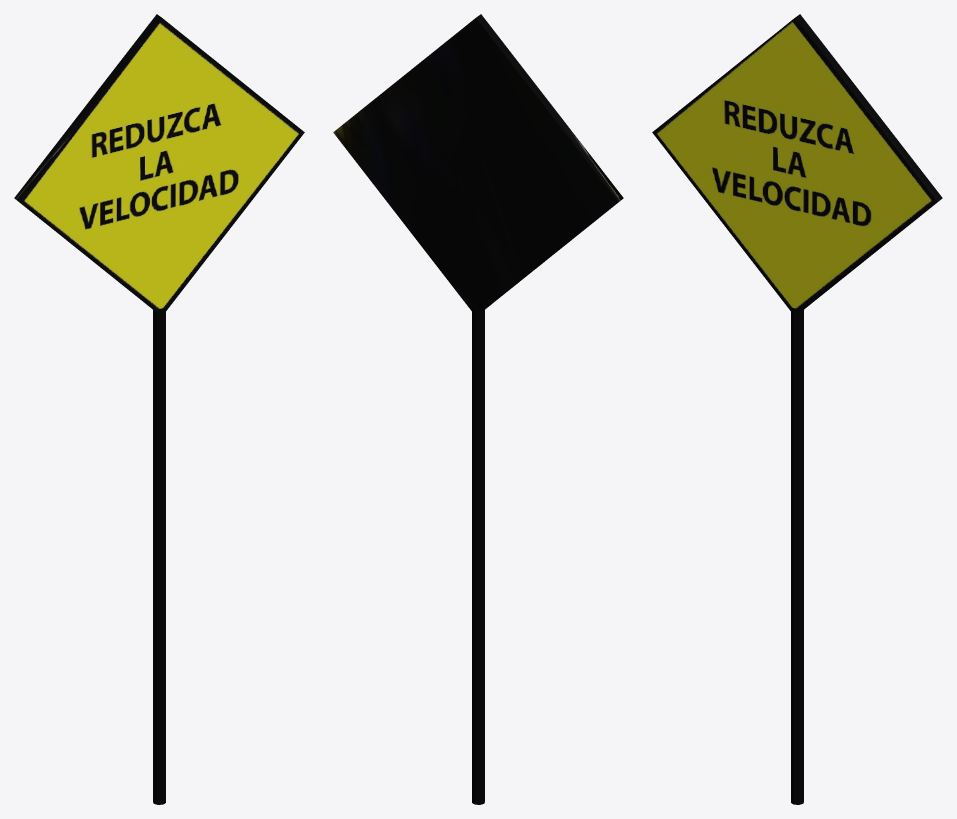
File: letrero de Velocidad.fbx
3 renders of one model, left to right at view 1: azimuth 30°, elevation 25°; view 2: azimuth 150°, elevation 25°; view 3: azimuth 330°, elevation 25°, orthographic.
Visible parts, largest first — view 1: Cube, Cylinder; view 2: Cube, Cylinder; view 3: Cube, Cylinder.
Part boxes in pixels (bbox=[...]): Cube: bbox=[14, 14, 304, 313]; Cylinder: bbox=[153, 307, 165, 804]; Cube: bbox=[333, 14, 623, 313]; Cylinder: bbox=[472, 307, 484, 804]; Cube: bbox=[652, 14, 942, 313]; Cylinder: bbox=[791, 307, 803, 804].
Size of the model in its own units: 283 by 744 by 11.74.
2 materials, 1 textured.
